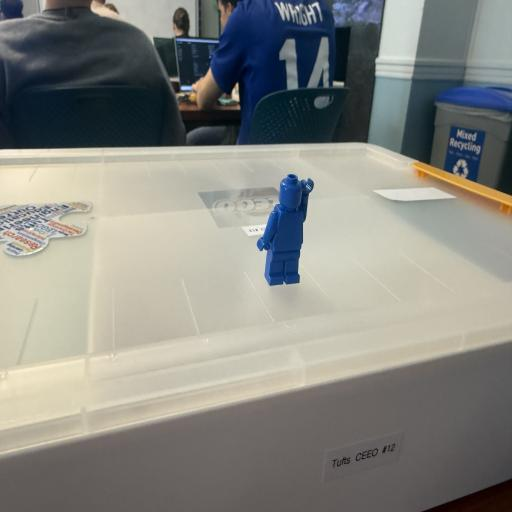Minifig: (257, 174, 314, 285)
